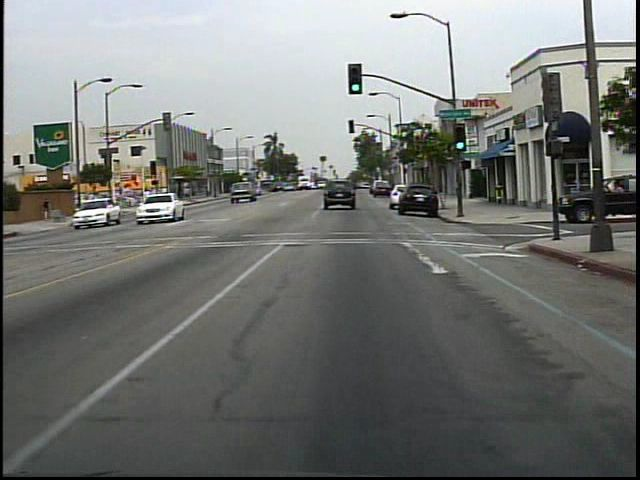person: (40, 195, 59, 224), (142, 185, 158, 209)
